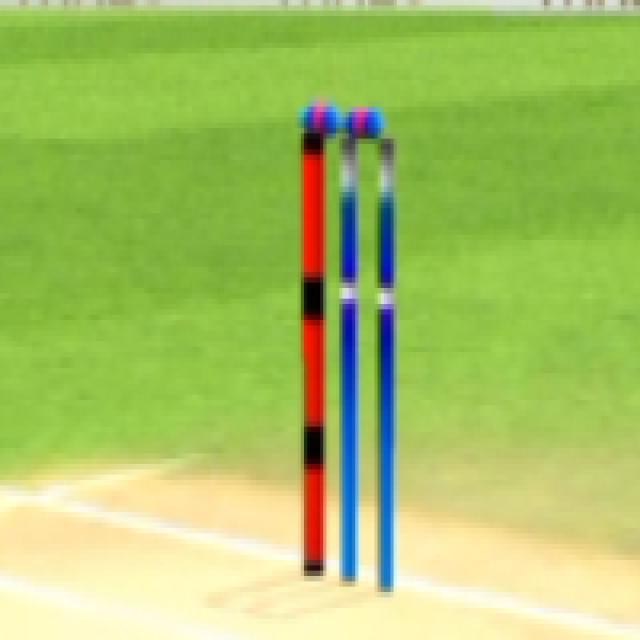stumps: (293, 93, 404, 594)
